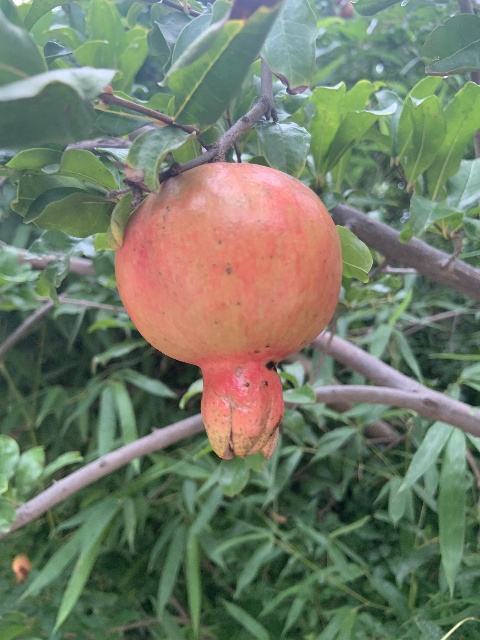ripe: (114, 163, 342, 463)
